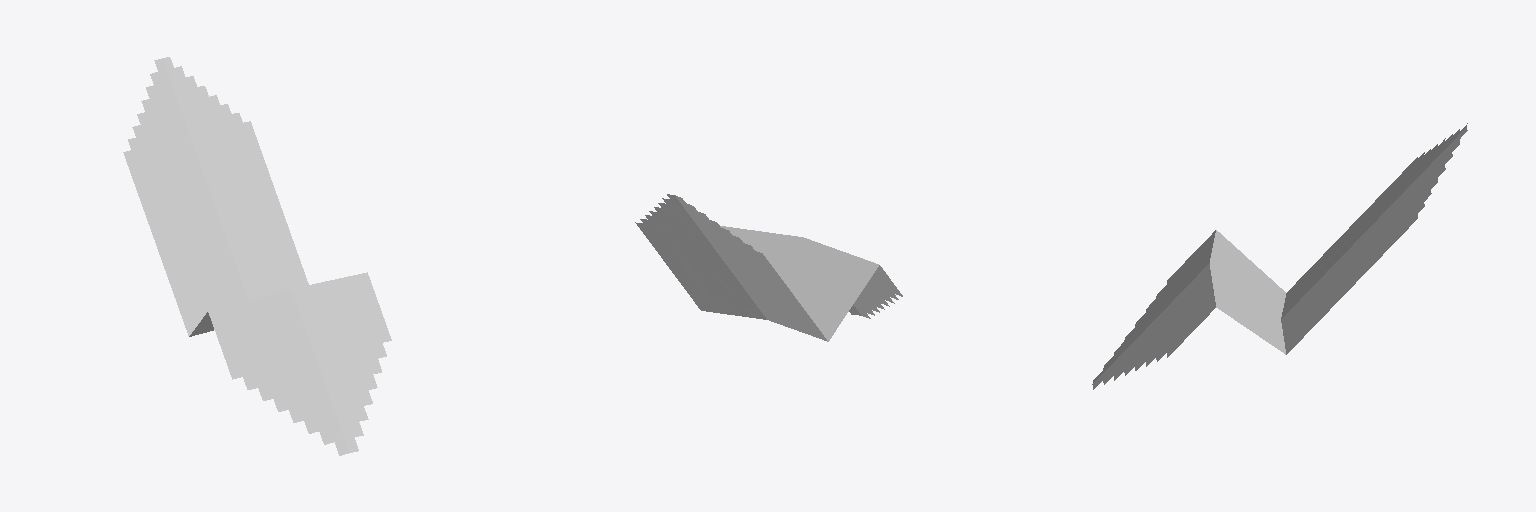
Rendered from HeadBody7.obj.
3 views of the same model, side by side, from view 1: azimuth 30°, elevation 25°; view 2: azimuth 150°, elevation 25°; view 3: azimuth 270°, elevation 25° (orthographic).
Visible parts, largest first — view 1: HeadRedButton_Cylinder.011; view 2: HeadRedButton_Cylinder.011; view 3: HeadRedButton_Cylinder.011.
Part boxes in pixels (left/top/right/bottom): HeadRedButton_Cylinder.011: left=123, top=57, right=391, bottom=455; HeadRedButton_Cylinder.011: left=635, top=194, right=902, bottom=341; HeadRedButton_Cylinder.011: left=1092, top=123, right=1467, bottom=389.
Bounding box in the file's own units: 0.0488 × 0.0755 × 0.0992.